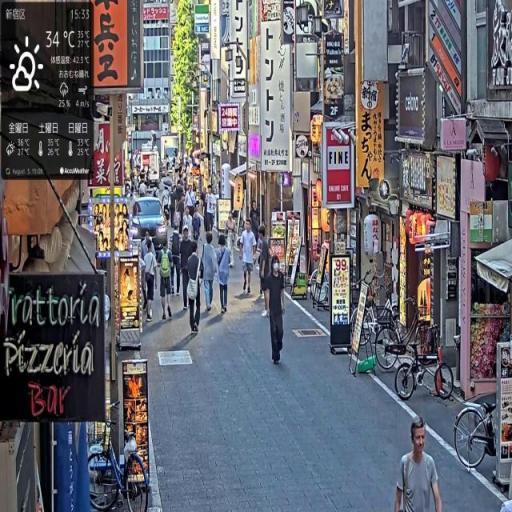person: (397, 417, 444, 512), (264, 256, 288, 366), (186, 242, 204, 335), (202, 231, 220, 316), (239, 221, 258, 300), (158, 241, 175, 323), (256, 225, 272, 311), (216, 233, 232, 319), (143, 240, 158, 321)
